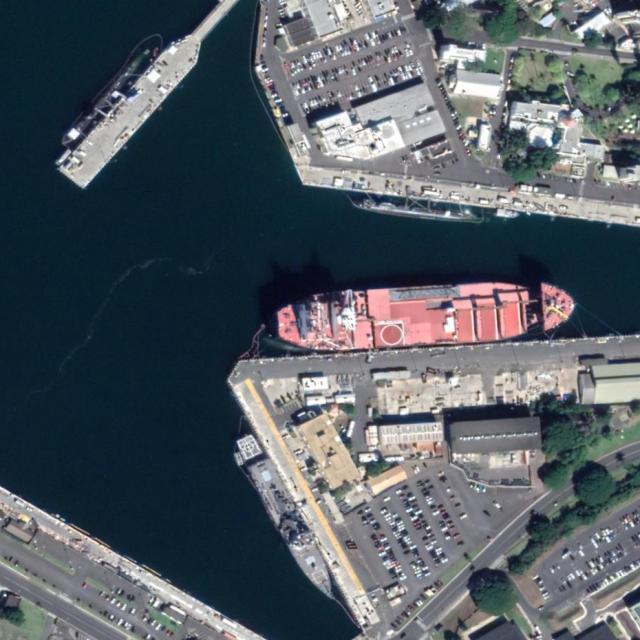Cargo: (275, 275, 577, 354)
Dock: (56, 26, 209, 189)
Frigate: (231, 430, 341, 602)
Submarine: (60, 54, 145, 147), (352, 198, 476, 223)
